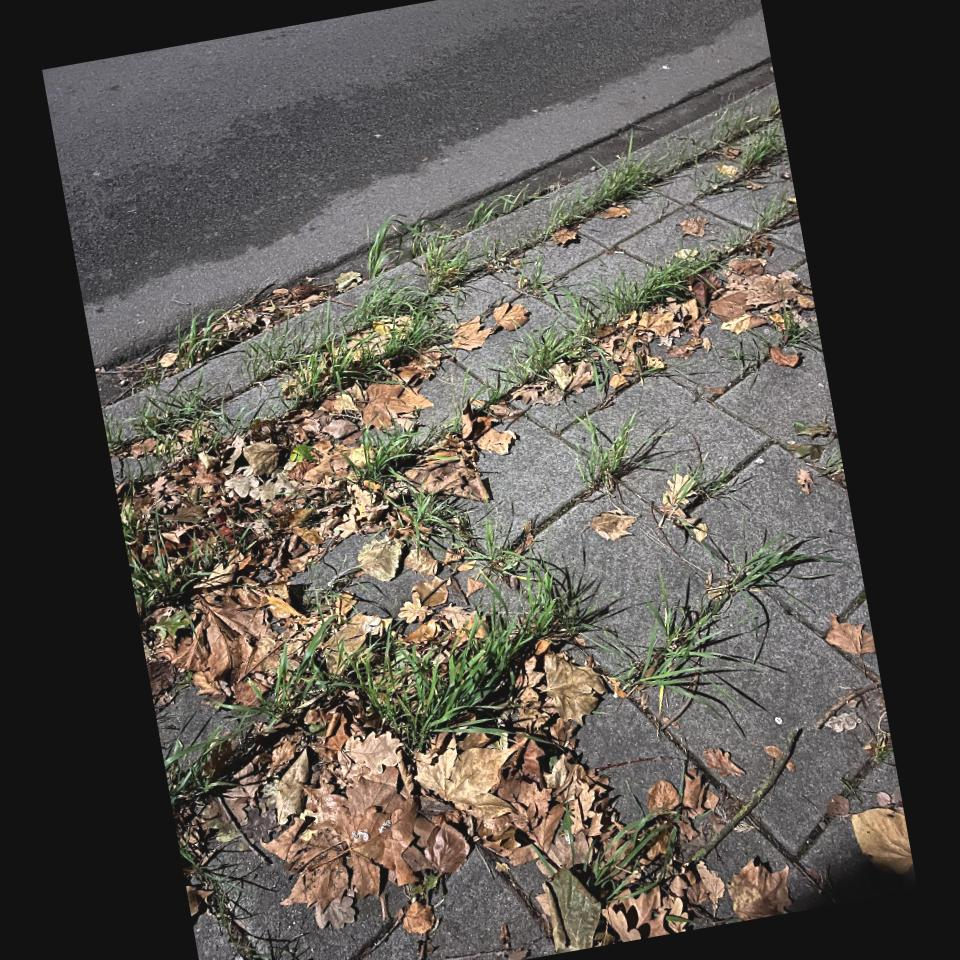weed: (288, 575, 561, 754), (607, 536, 840, 706), (245, 282, 430, 383), (282, 305, 444, 400), (221, 620, 331, 726), (121, 505, 223, 611), (581, 809, 678, 902), (591, 253, 715, 321), (551, 150, 661, 225), (164, 734, 228, 858), (577, 413, 659, 489), (502, 324, 587, 394), (159, 312, 235, 370), (716, 125, 786, 183), (136, 388, 214, 437), (417, 234, 469, 290)
